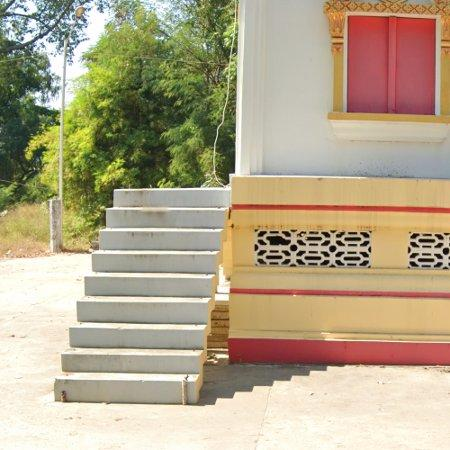stairs: (55, 190, 230, 405)
